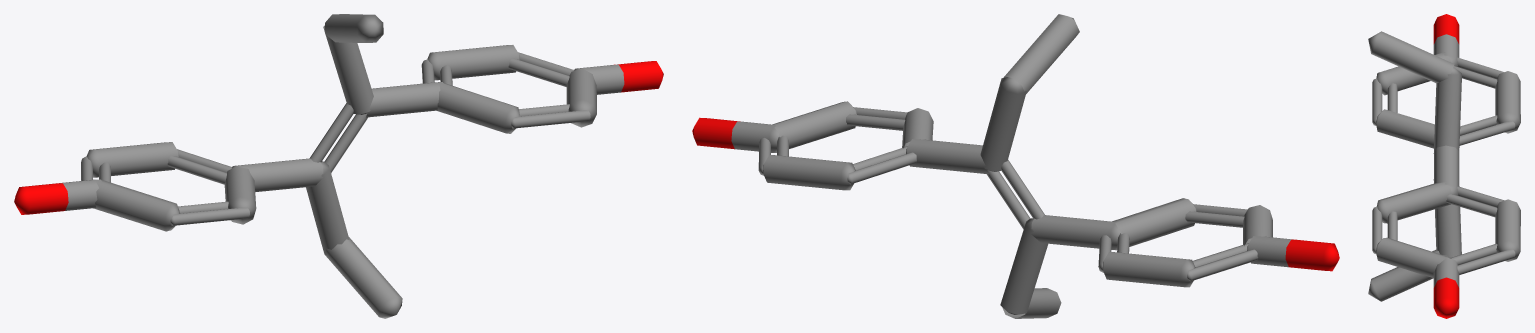
Rendered from diethyl.glb.
3 renders of one model, left to right at view 1: azimuth 30°, elevation 25°; view 2: azimuth 150°, elevation 25°; view 3: azimuth 270°, elevation 25°, orthographic. The views are drawn at different scales.
Parts seen in each view (by area): view 1: node-geom23; view 2: node-geom23; view 3: node-geom23.
Part boxes in pixels (x1,y1,x2,y2): node-geom23: [14, 14, 663, 318]; node-geom23: [692, 14, 1339, 318]; node-geom23: [1368, 14, 1520, 318].
Bounding box in the file's own units: 12.42 × 5.63 × 3.
